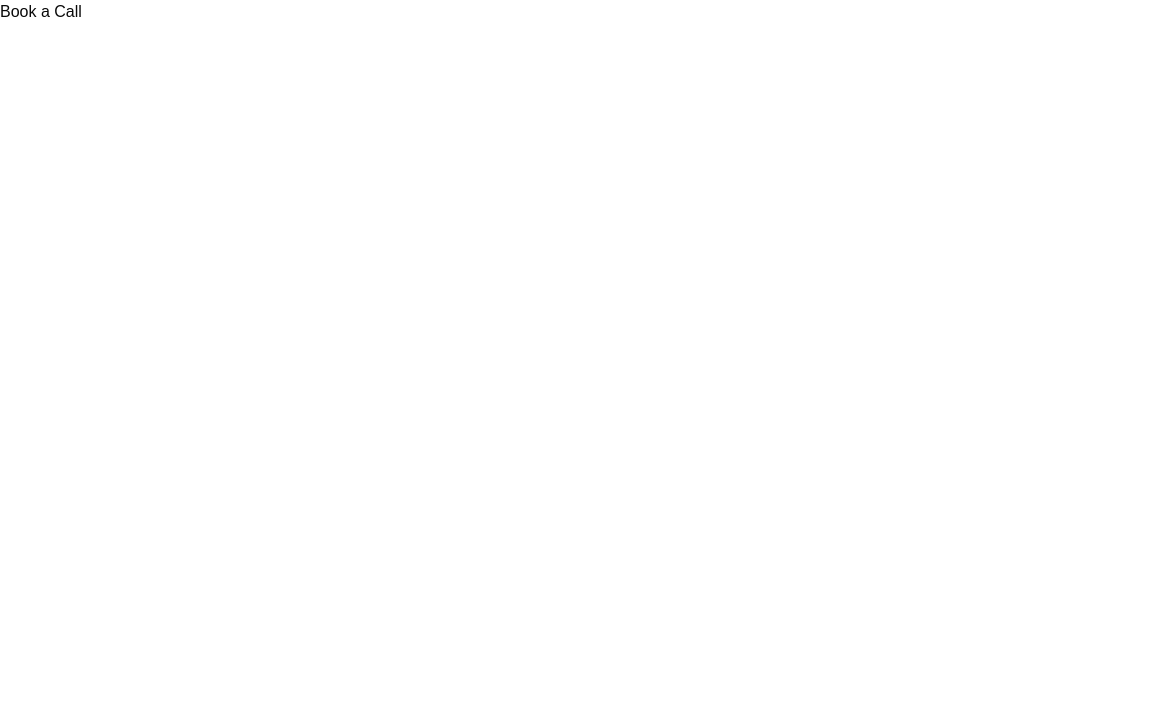
Scenario: BookingModal › opens modal when trigger is clicked
Click the button "Book a Call" at (41, 12), box [0, 0, 82, 24]
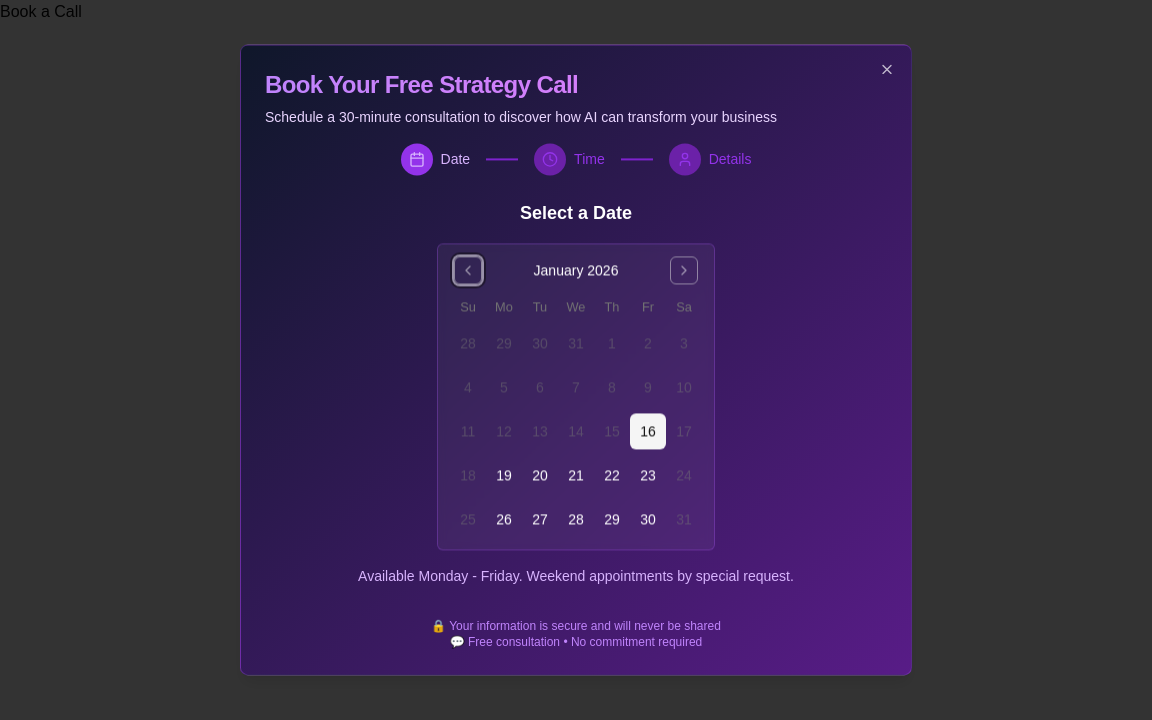
Expected: the heading "Book Your Free Strategy Call" is shown, [265, 69, 887, 101]
Expected: the text "Schedule a 30-minute consultation to discover how AI can transform your business" is shown, [265, 109, 777, 125]
